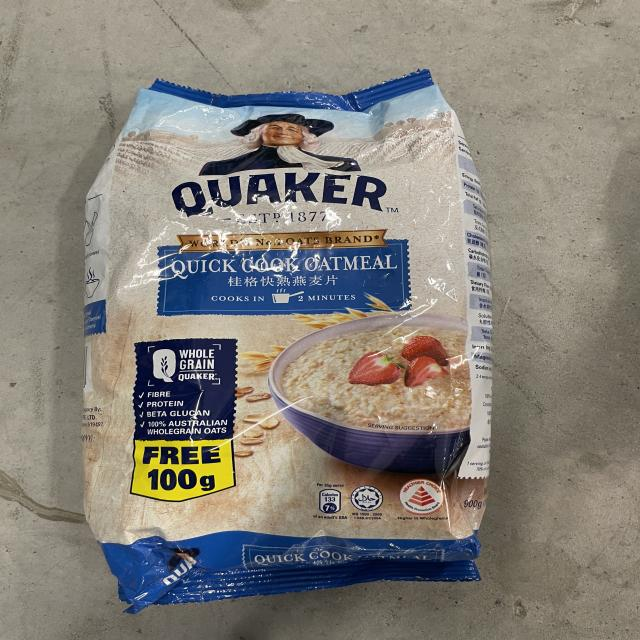object_name: (114, 99, 474, 577)
